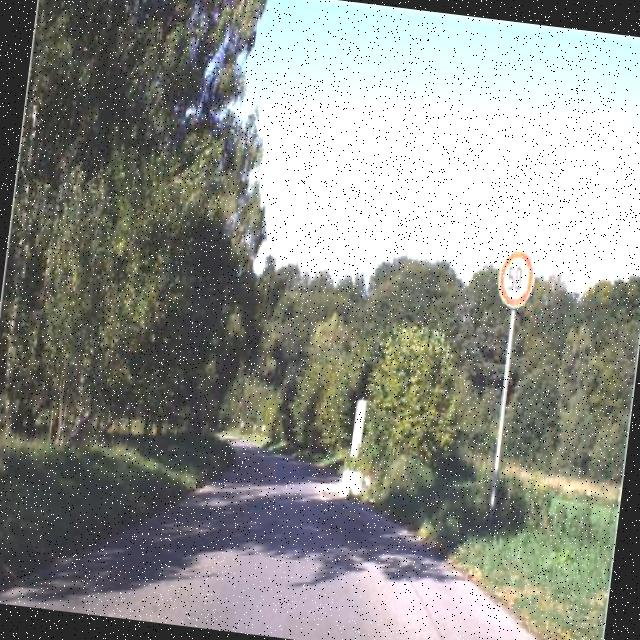Ograniczenie predkosci do 50: (493, 246, 538, 310)
